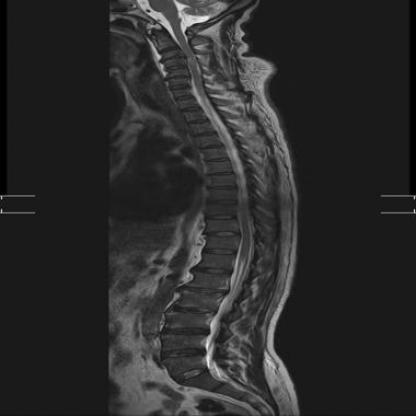Annular Tearrotation: (157, 345, 207, 359)
Disc Bulgerotation: (165, 302, 216, 317), (157, 345, 208, 359), (161, 325, 211, 339)
Disc Protrusionrotation: (178, 281, 226, 297), (159, 54, 186, 63)
